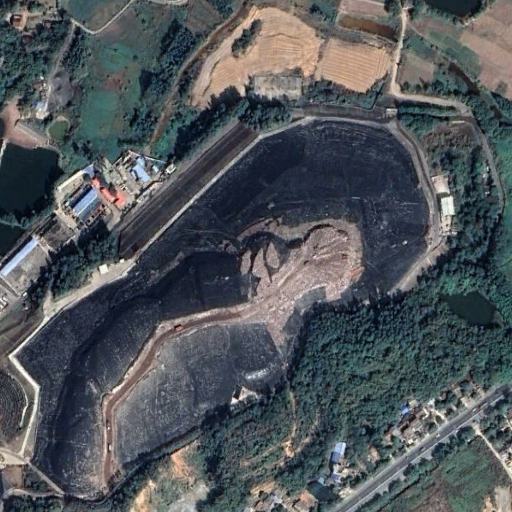lf: (17, 121, 429, 500)
